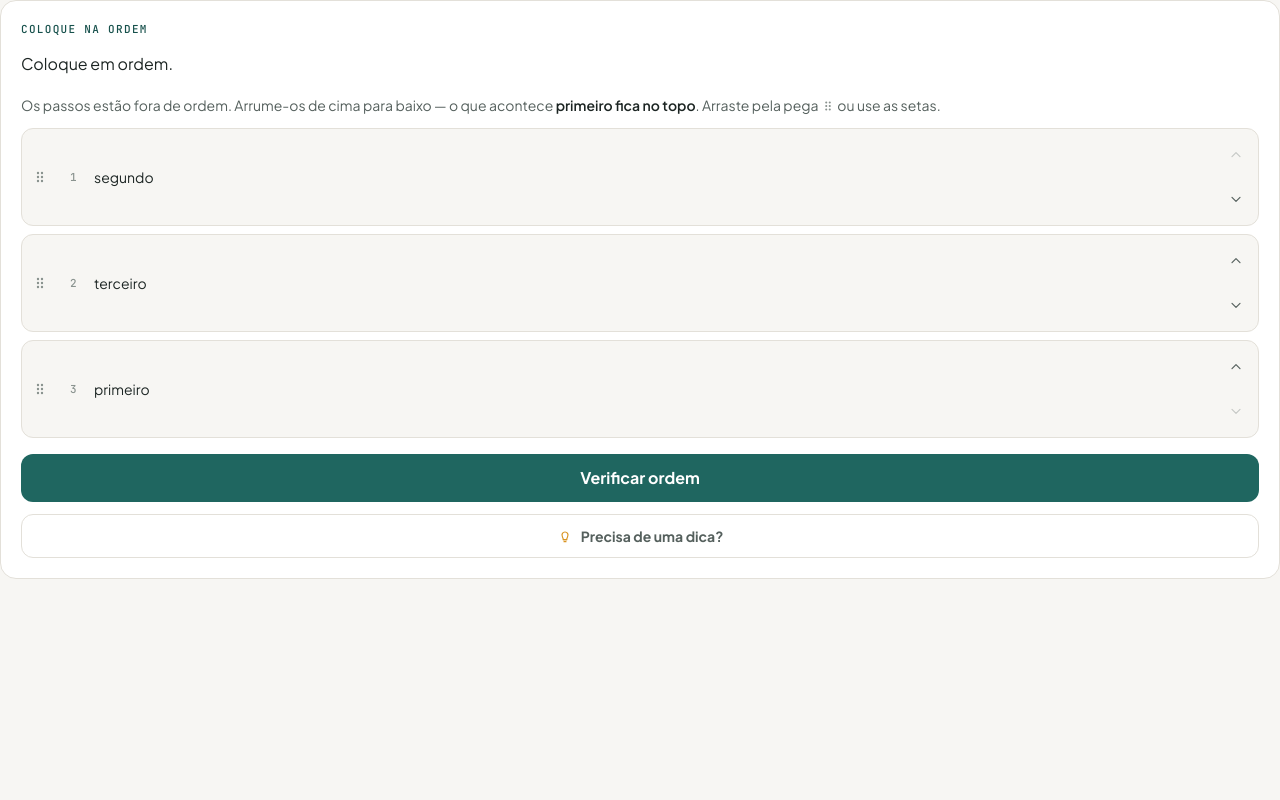
Test case: arrastar › arrastar depois de errar descarta o retorno anterior
Click the button "Verificar ordem": point(640, 478) [21,454,1259,502]
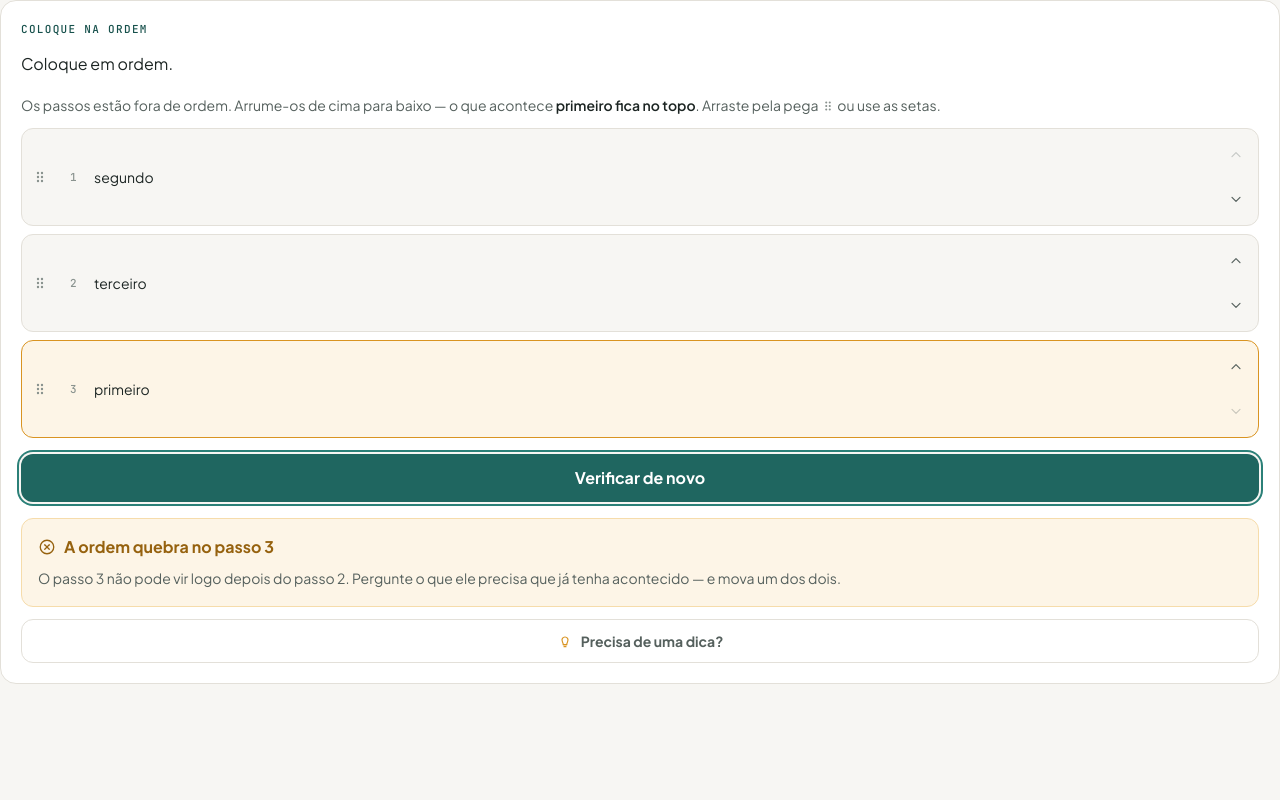
Now the text "A ordem quebra no passo 3" is shown, box [38,536,274,557]
Press the mouse on the 1st element with class "cursor-grab": point(40, 177) [32,169,48,185]
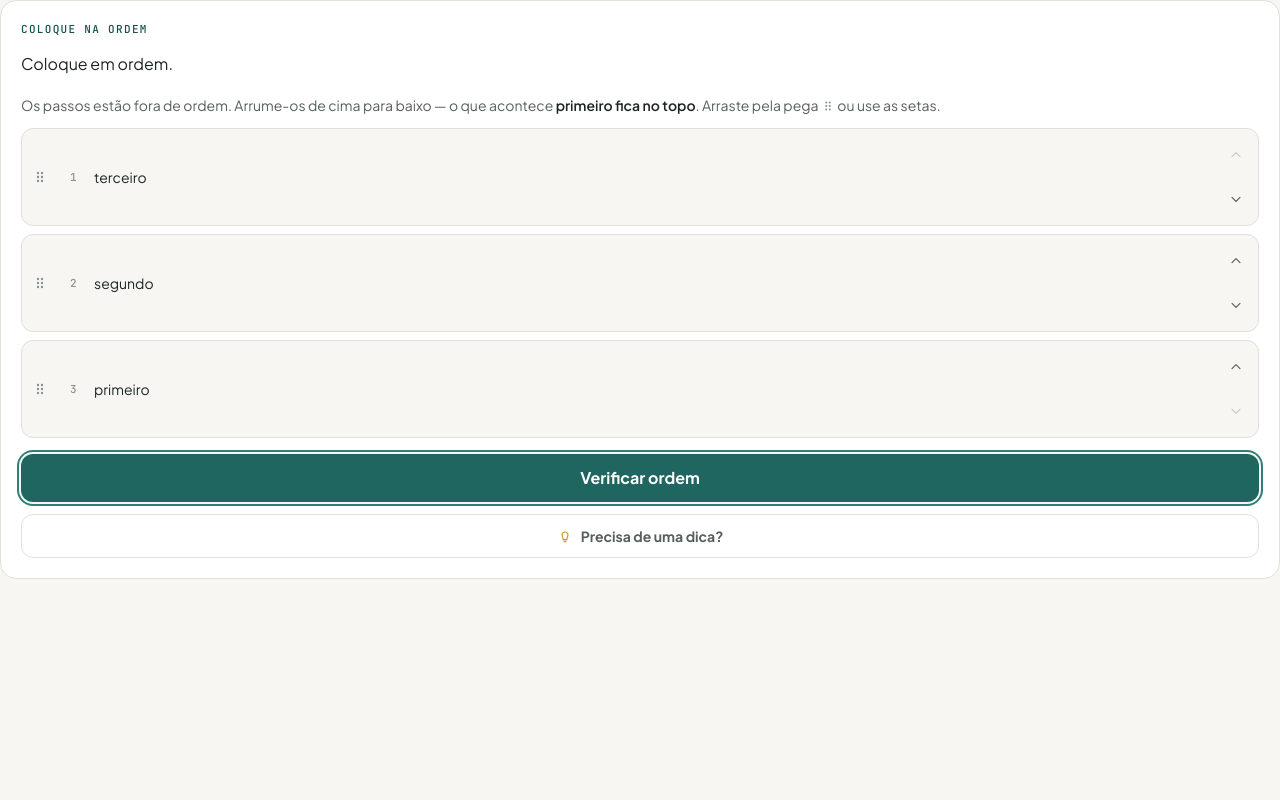
Now the text "A ordem quebra" is gone
